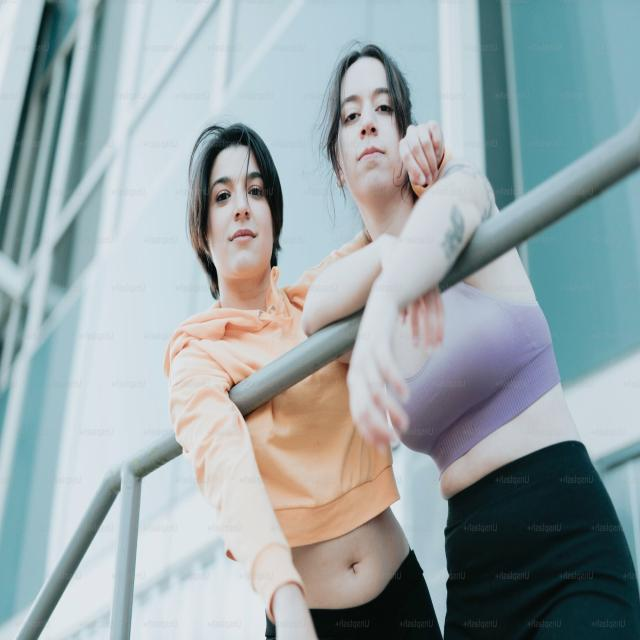adult: (302, 42, 640, 640), (166, 123, 450, 640)
